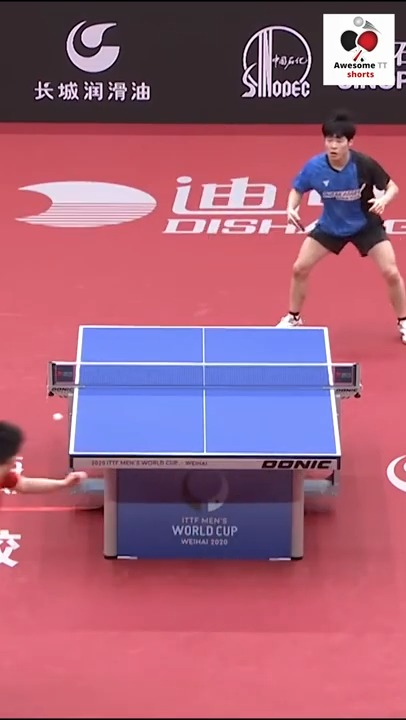Ball: (51, 412, 64, 422)
